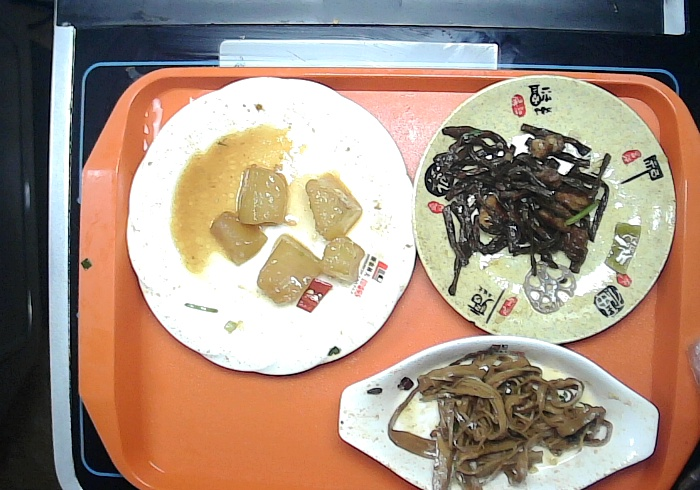NLDX-Bai_Zhe_Yuan_Pan: (123, 71, 419, 379)
NLDX-Fu_Zi_Yuan_Pan: (408, 72, 682, 349)
NLDX-Yu_Pan: (333, 331, 662, 490)
